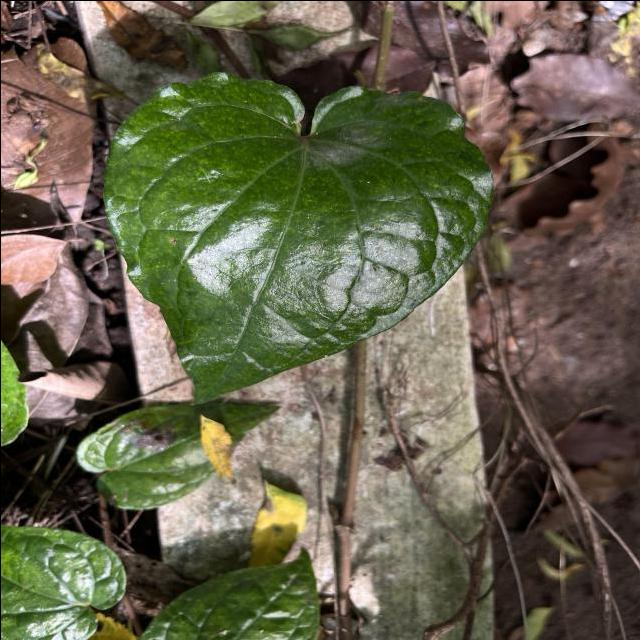Piper betle: (96, 68, 498, 412)
